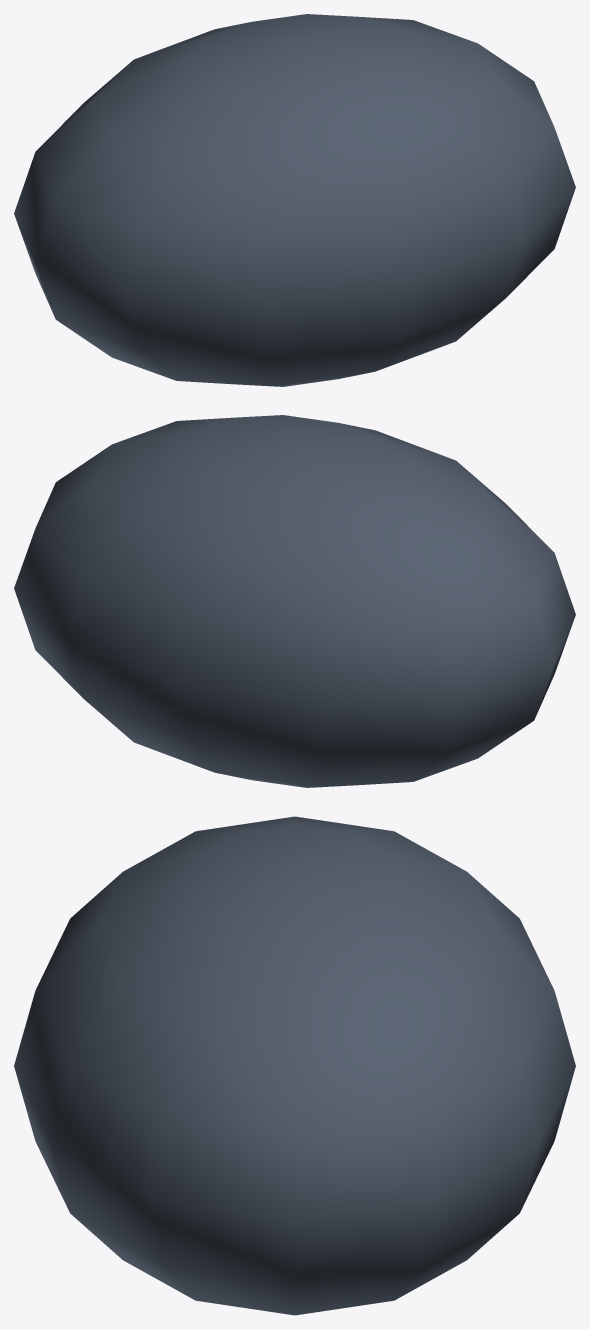
The model's file is prop-7-refined-v15.fbx.
3 renders of one model, top to bottom at view 1: azimuth 30°, elevation 25°; view 2: azimuth 150°, elevation 25°; view 3: azimuth 270°, elevation 25°, orthographic. The views are drawn at different scales.
Visible parts, largest first — view 1: Boulder; view 2: Boulder; view 3: Boulder.
Boxes of the visible parts, x1,y1,x2,y2 form: Boulder: (14, 14, 575, 386); Boulder: (14, 415, 575, 787); Boulder: (14, 816, 575, 1315).
Size of the model in its own units: 150 by 88 by 114.
